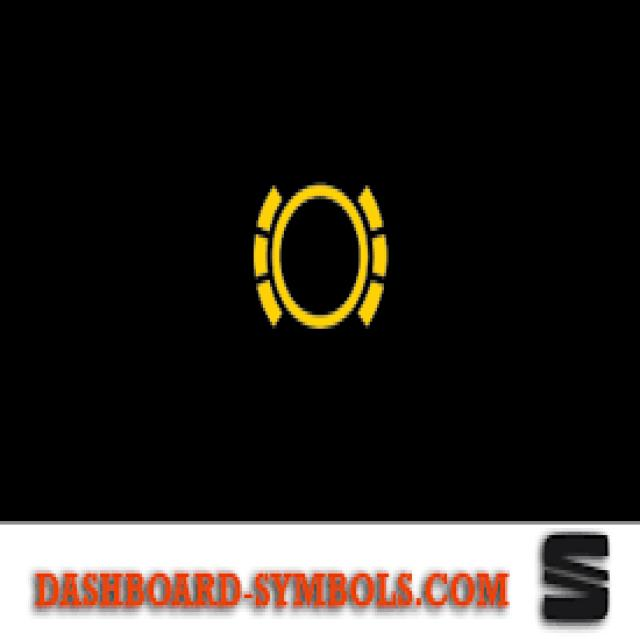kontrolka: (246, 162, 400, 341)
